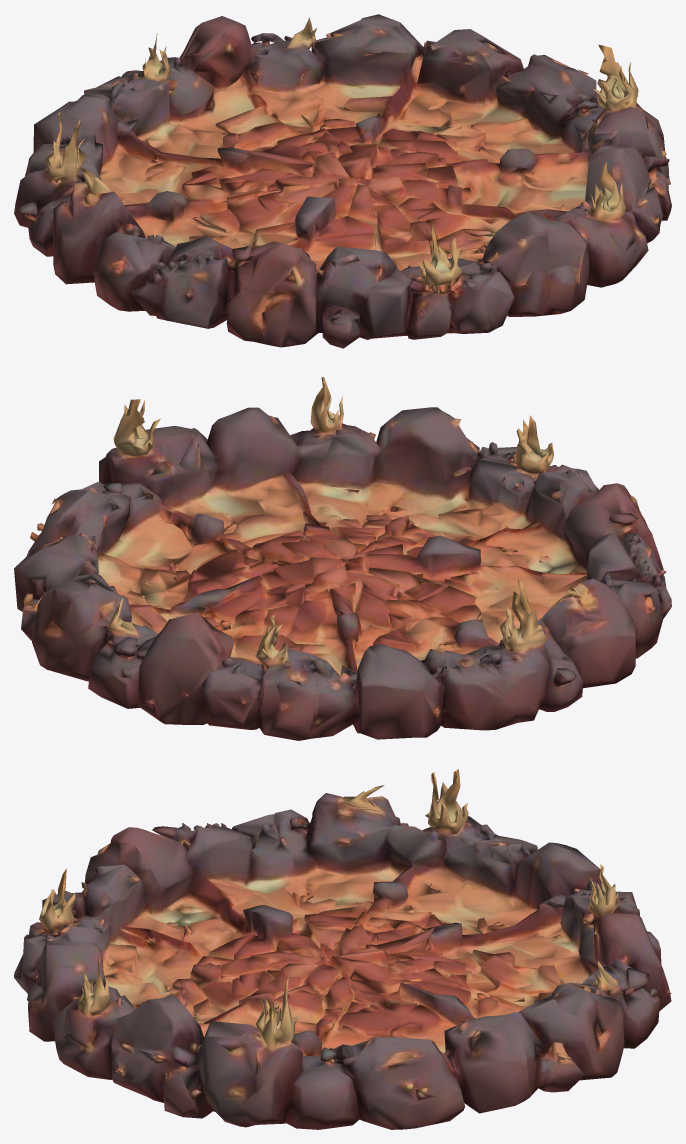
Rendered from magma_z.glb.
The picture shows the model from 3 angles, top to bottom: view 1: azimuth 30°, elevation 25°; view 2: azimuth 150°, elevation 25°; view 3: azimuth 270°, elevation 25°; orthographic projection.
Visible parts, largest first — view 1: tripo_node_e5299312-2108-4003-9e94-4a6e421b0ade; view 2: tripo_node_e5299312-2108-4003-9e94-4a6e421b0ade; view 3: tripo_node_e5299312-2108-4003-9e94-4a6e421b0ade.
Boxes of the visible parts, x1,y1,x2,y2 form: tripo_node_e5299312-2108-4003-9e94-4a6e421b0ade: (14, 14, 671, 348); tripo_node_e5299312-2108-4003-9e94-4a6e421b0ade: (14, 377, 671, 740); tripo_node_e5299312-2108-4003-9e94-4a6e421b0ade: (14, 769, 671, 1129).
Bounding box in the file's own units: 0.9772 × 0.2229 × 0.9775.
1 material, 1 textured.
